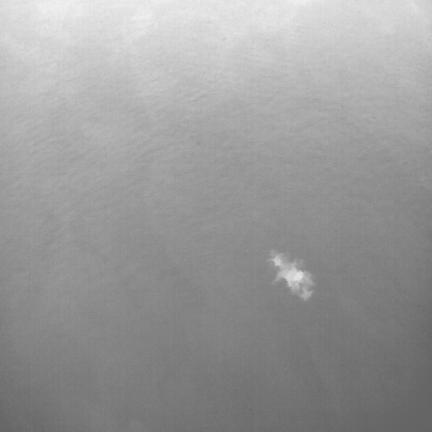flukeprints: (267, 253, 314, 300)
